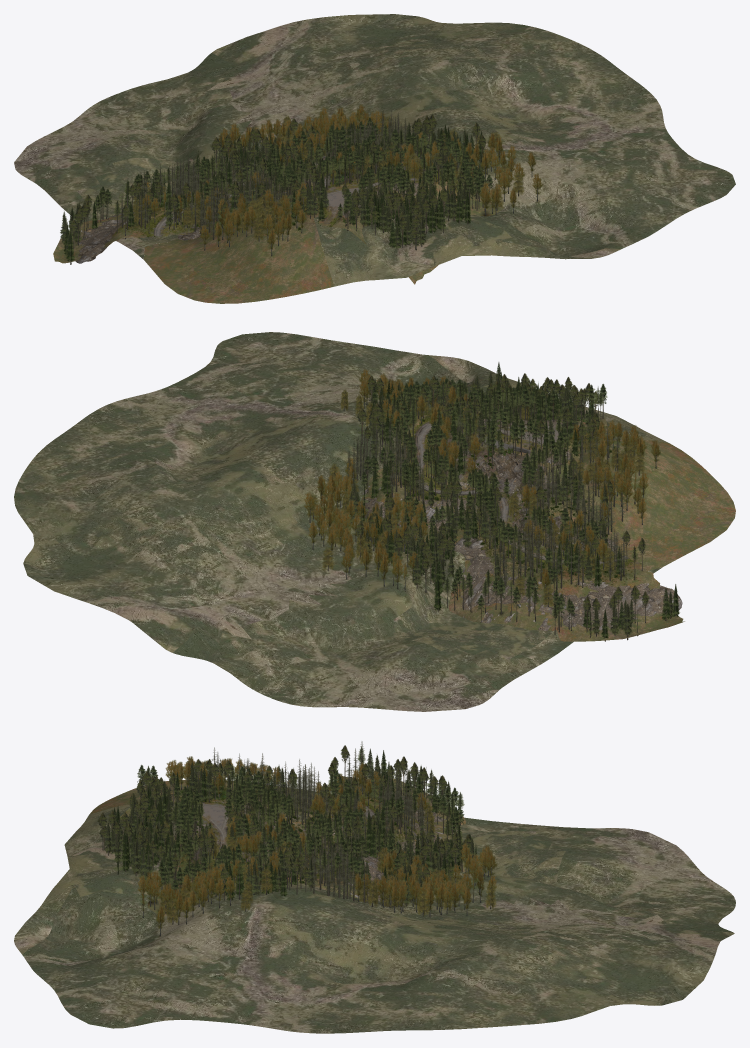
Rendered from dirt_road_forest.glb.
3 renders of one model, top to bottom at view 1: azimuth 30°, elevation 25°; view 2: azimuth 150°, elevation 25°; view 3: azimuth 270°, elevation 25°, orthographic. The views are drawn at different scales.
Visible parts, largest first — view 1: Background_Tree_Atlas.020_Terrain_Far_0, Background_Tree_Atlas.001_Background_Tree_Atlas_0, Background_Tree_Atlas.021_Aerial_Grass_0, Background_Tree_Atlas.006_Trunk_Oak_0, Background_Tree_Atlas.019_Sloped_Rock_0, Background_Tree_Atlas.024_Grass_Close_0, Background_Tree_Atlas.011_Grass_Vegetation_Green_0, Background_Tree_Atlas.004_Trunk_Birch_0; view 2: Background_Tree_Atlas.020_Terrain_Far_0, Background_Tree_Atlas.001_Background_Tree_Atlas_0, Background_Tree_Atlas.021_Aerial_Grass_0, Background_Tree_Atlas.006_Trunk_Oak_0, Background_Tree_Atlas.019_Sloped_Rock_0, Background_Tree_Atlas.022_Tall_Cliff_0, Background_Tree_Atlas.024_Grass_Close_0, Background_Tree_Atlas.011_Grass_Vegetation_Green_0, Background_Tree_Atlas.013_Rock_Decal_0, Background_Tree_Atlas.025_Dirt_Road_0, Background_Tree_Atlas.004_Trunk_Birch_0; view 3: Background_Tree_Atlas.020_Terrain_Far_0, Background_Tree_Atlas.001_Background_Tree_Atlas_0, Background_Tree_Atlas.006_Trunk_Oak_0, Background_Tree_Atlas.021_Aerial_Grass_0, Background_Tree_Atlas.019_Sloped_Rock_0, Background_Tree_Atlas.004_Trunk_Birch_0, Background_Tree_Atlas.024_Grass_Close_0.
Boxes of the visible parts, x1,y1,x2,y2 form: Background_Tree_Atlas.020_Terrain_Far_0: (14, 14, 735, 286); Background_Tree_Atlas.001_Background_Tree_Atlas_0: (60, 104, 542, 262); Background_Tree_Atlas.021_Aerial_Grass_0: (53, 157, 504, 303); Background_Tree_Atlas.006_Trunk_Oak_0: (66, 111, 518, 264); Background_Tree_Atlas.019_Sloped_Rock_0: (75, 155, 418, 263); Background_Tree_Atlas.024_Grass_Close_0: (144, 164, 440, 236); Background_Tree_Atlas.011_Grass_Vegetation_Green_0: (114, 173, 440, 238); Background_Tree_Atlas.004_Trunk_Birch_0: (145, 132, 537, 256); Background_Tree_Atlas.020_Terrain_Far_0: (14, 332, 667, 711); Background_Tree_Atlas.001_Background_Tree_Atlas_0: (304, 362, 679, 638); Background_Tree_Atlas.021_Aerial_Grass_0: (361, 408, 735, 641); Background_Tree_Atlas.006_Trunk_Oak_0: (313, 380, 675, 641); Background_Tree_Atlas.019_Sloped_Rock_0: (360, 419, 682, 634); Background_Tree_Atlas.022_Tall_Cliff_0: (465, 450, 616, 552); Background_Tree_Atlas.024_Grass_Close_0: (398, 418, 635, 568); Background_Tree_Atlas.011_Grass_Vegetation_Green_0: (399, 413, 641, 601); Background_Tree_Atlas.013_Rock_Decal_0: (414, 421, 625, 566); Background_Tree_Atlas.025_Dirt_Road_0: (417, 423, 629, 564); Background_Tree_Atlas.004_Trunk_Birch_0: (309, 396, 656, 598); Background_Tree_Atlas.020_Terrain_Far_0: (14, 790, 735, 1033); Background_Tree_Atlas.001_Background_Tree_Atlas_0: (97, 741, 497, 932); Background_Tree_Atlas.006_Trunk_Oak_0: (102, 746, 491, 924); Background_Tree_Atlas.021_Aerial_Grass_0: (89, 776, 469, 917); Background_Tree_Atlas.019_Sloped_Rock_0: (171, 777, 464, 901); Background_Tree_Atlas.004_Trunk_Birch_0: (142, 774, 491, 936); Background_Tree_Atlas.024_Grass_Close_0: (161, 788, 381, 879).
Bounding box in the file's own units: 551 × 111 × 548.
26 materials, 26 textured.
